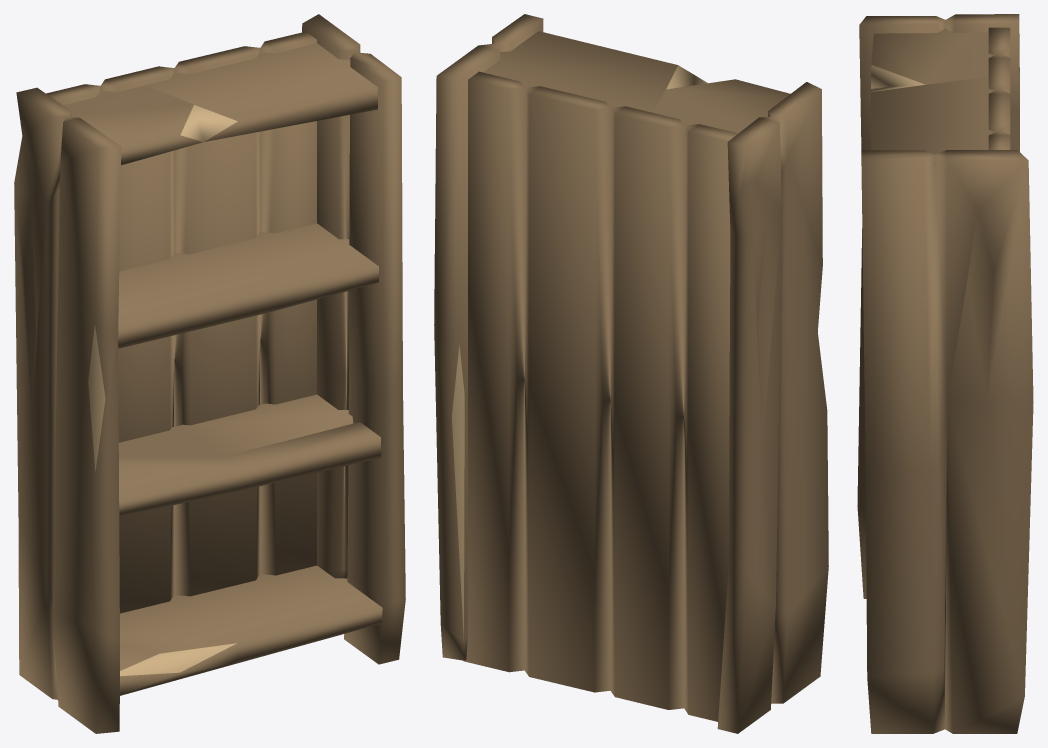
The model's file is rpgpp_ag_shelf_wood_01a.fbx.
The picture shows the model from 3 angles, left to right: view 1: azimuth 30°, elevation 25°; view 2: azimuth 150°, elevation 25°; view 3: azimuth 270°, elevation 25°; orthographic projection. The views are drawn at different scales.
Visible parts, largest first — view 1: rpgpp_ag_shelf_wood_01a; view 2: rpgpp_ag_shelf_wood_01a; view 3: rpgpp_ag_shelf_wood_01a.
Boxes of the visible parts, x1,y1,x2,y2 form: rpgpp_ag_shelf_wood_01a: [14, 14, 405, 733]; rpgpp_ag_shelf_wood_01a: [434, 14, 828, 733]; rpgpp_ag_shelf_wood_01a: [857, 14, 1033, 733].
Bounding box in the file's own units: 1.06 × 1.9 × 0.5271.
